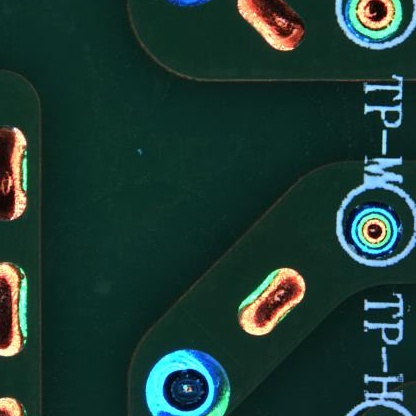spot: (146, 349, 232, 416), (347, 203, 401, 258), (345, 1, 403, 41)
